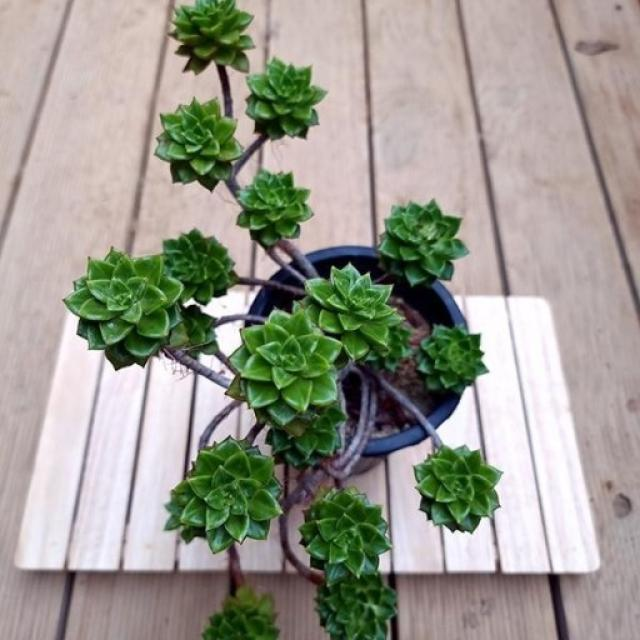Letizia: (64, 249, 194, 368), (228, 306, 341, 424), (166, 438, 281, 552), (306, 264, 409, 363), (155, 99, 242, 189), (380, 200, 469, 286), (246, 58, 326, 139), (170, 0, 254, 73), (238, 170, 312, 248)
